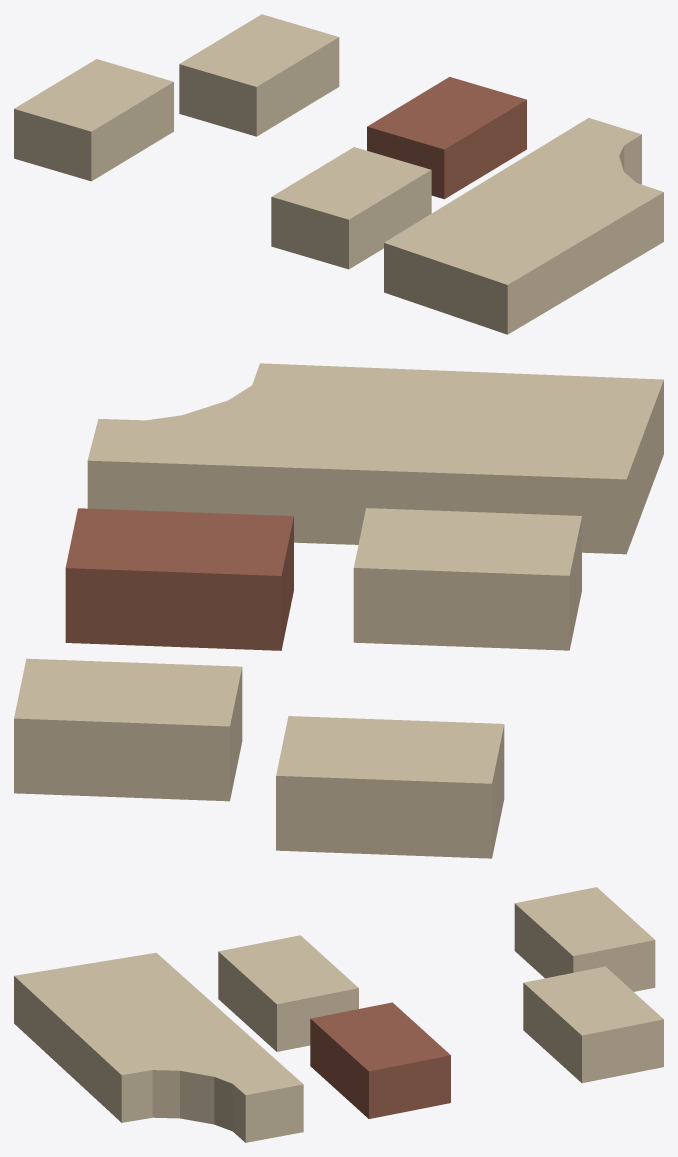
File: city_-3_-7.glb
3 views of the same model, one above another, from view 1: azimuth 30°, elevation 25°; view 2: azimuth 150°, elevation 25°; view 3: azimuth 270°, elevation 25° (orthographic). The views are drawn at different scales.
Visible parts, largest first — view 1: city_-3_-7; view 2: city_-3_-7; view 3: city_-3_-7.
Part boxes in pixels (left/top/right/bottom): city_-3_-7: left=14, top=14, right=663, bottom=334; city_-3_-7: left=14, top=363, right=663, bottom=858; city_-3_-7: left=14, top=887, right=663, bottom=1142.
Bounding box in the file's own units: 140 × 15 × 185.
